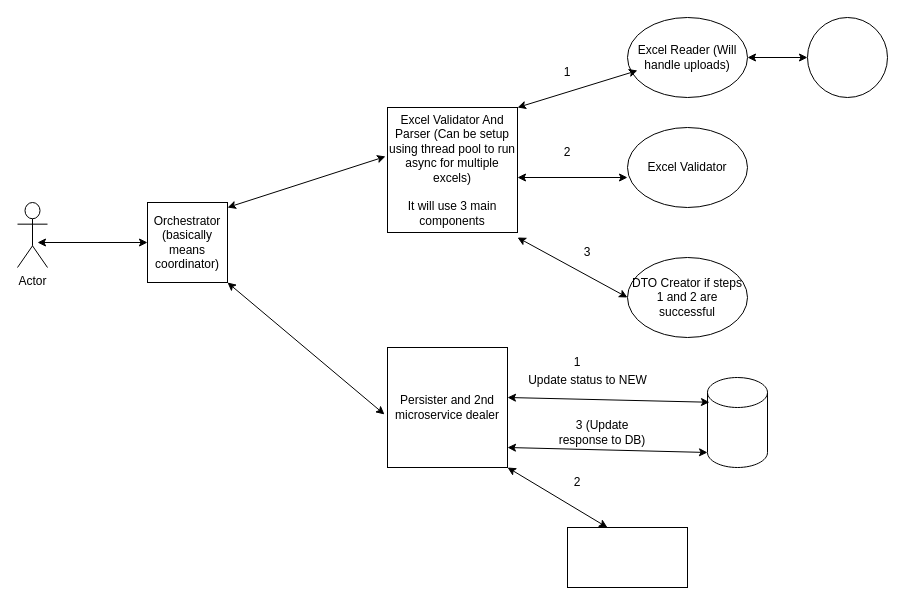
The diagram is 905 pixels wide and 605 high, and some of its shapes have lost their labels. Each missing label, with the box of its shape:
Configuration holds excel headers: (806, 16, 888, 98)
DB: (706, 376, 768, 468)
The other microservice: (566, 526, 688, 588)
